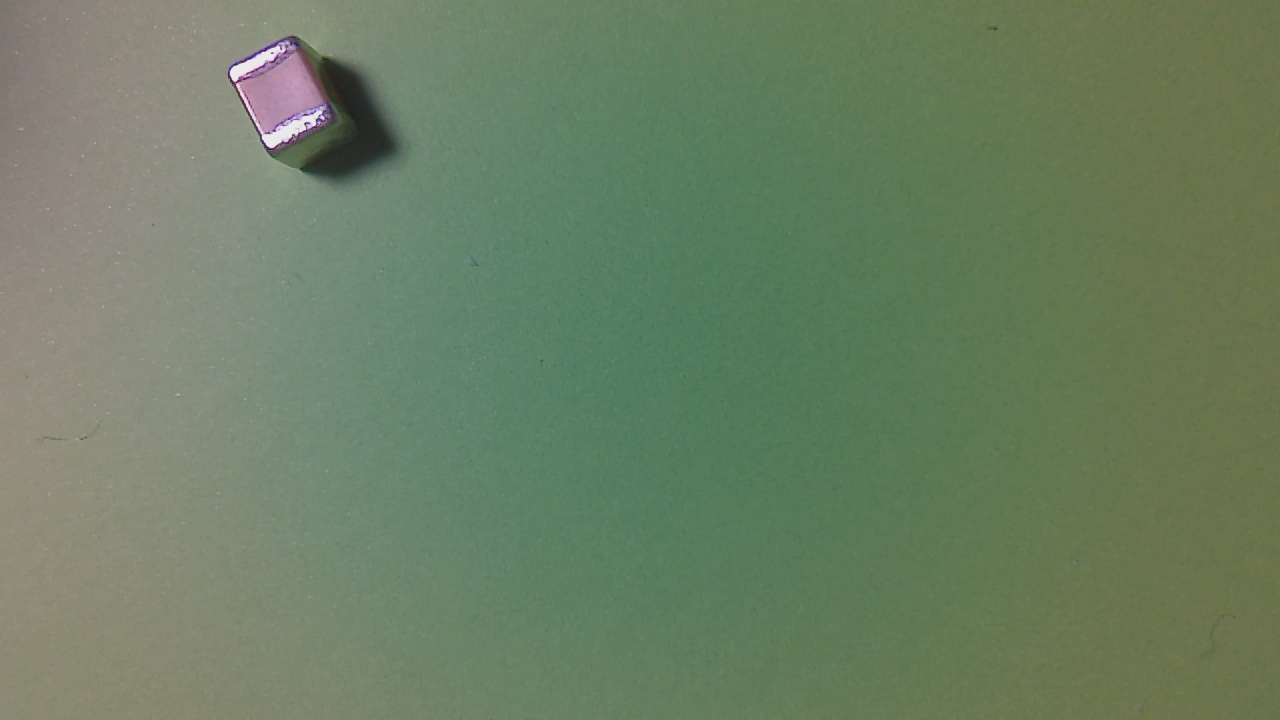Condensator: (228, 37, 347, 160)
